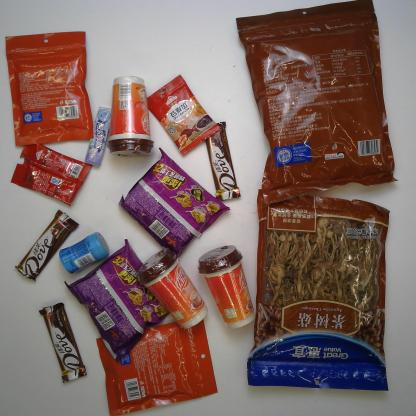Candy: (83, 106, 112, 167)
Chocolate: (15, 208, 81, 282), (37, 302, 88, 384), (204, 120, 242, 201)
Dried Food: (235, 0, 397, 205), (247, 187, 391, 392)
Dried Fruit: (96, 316, 218, 416), (5, 31, 95, 147)
Gum: (58, 232, 110, 275)
Instant Drink: (146, 74, 222, 156), (136, 246, 209, 331), (9, 142, 93, 207), (196, 244, 256, 329), (105, 76, 155, 158)
Instant Noodles: (63, 237, 169, 363), (118, 146, 232, 260)
